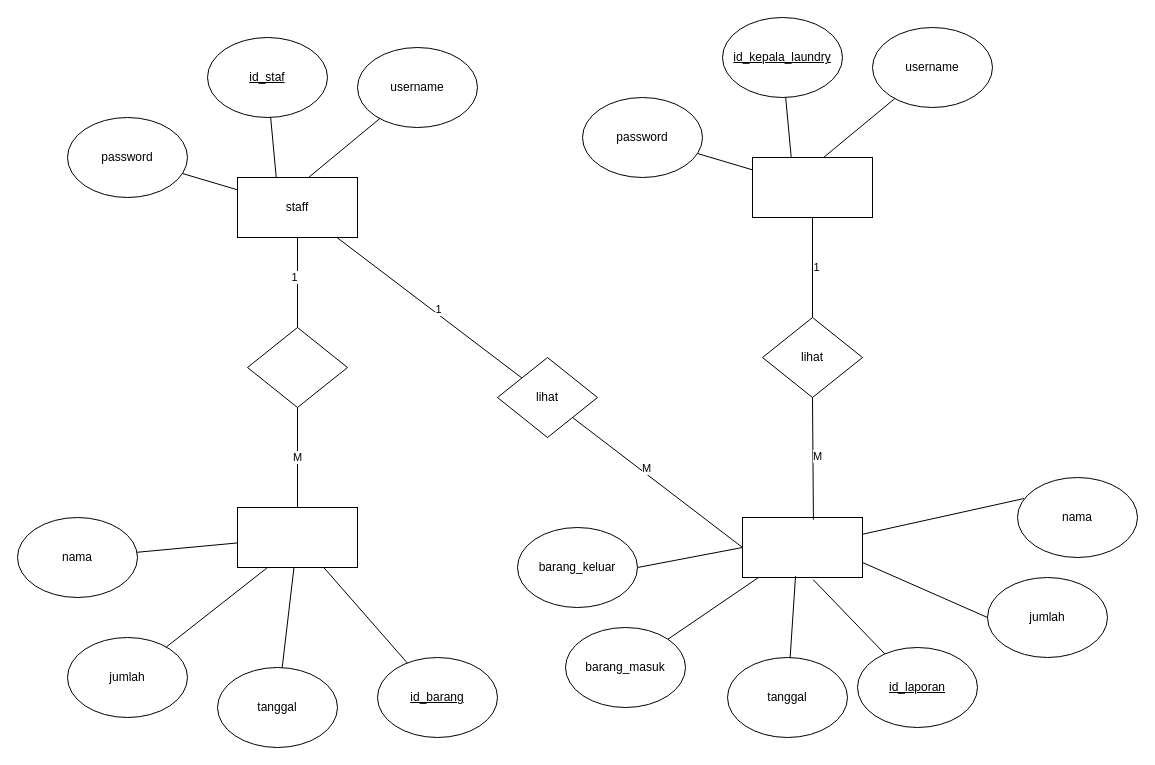
This 1155x765 diagram has some shape labels left out. Here are the shapes that lost their labels. From the top down, the centre of each, then its label:
(812,187): kepala_laundry
(297,367): kelola
(297,537): barang
(802,547): laporan
